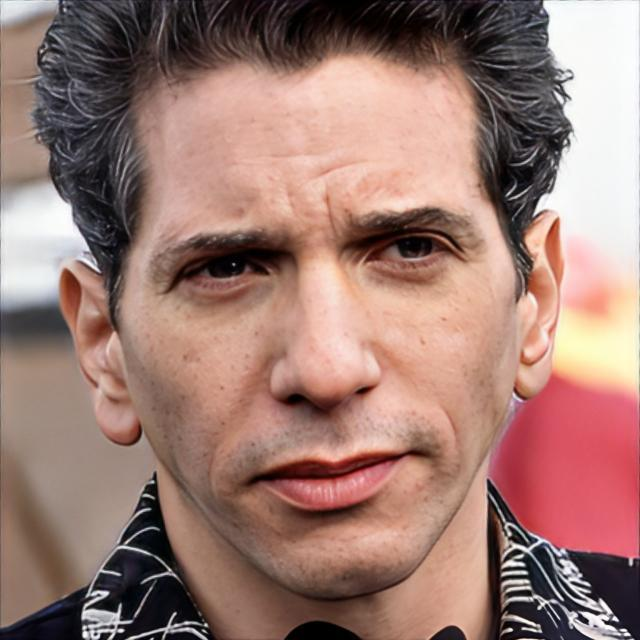anger: (116, 33, 522, 598)
